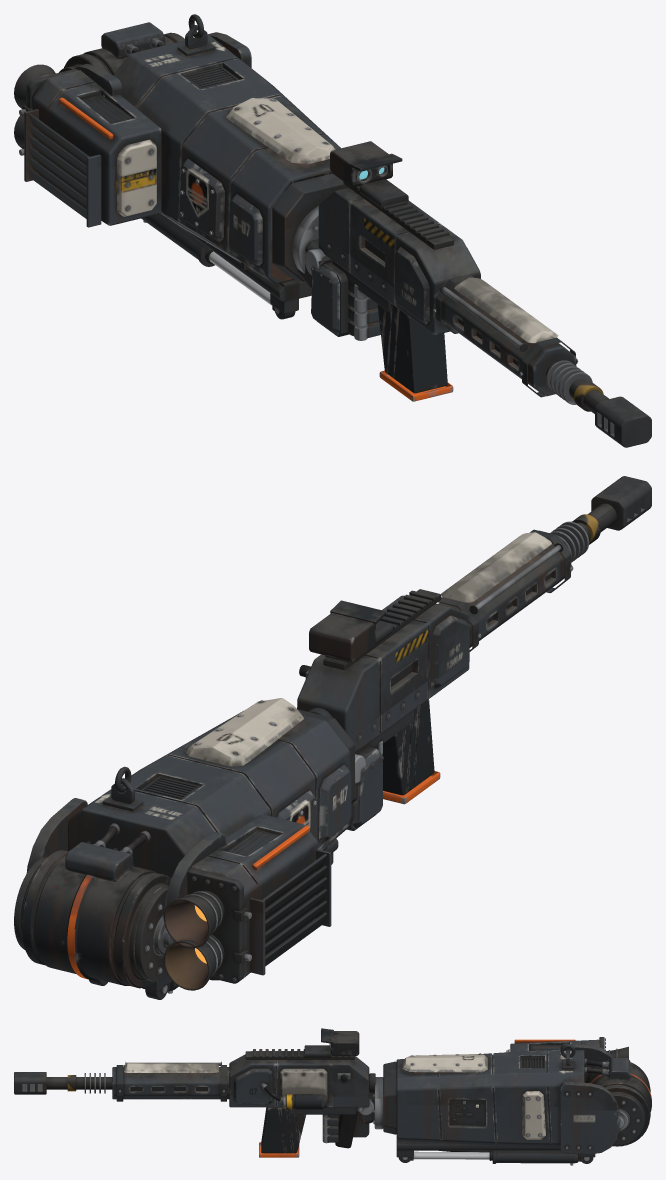
The model's file is sample.glb.
3 views of the same model, one above another, from view 1: azimuth 30°, elevation 25°; view 2: azimuth 150°, elevation 25°; view 3: azimuth 270°, elevation 25° (orthographic). The views are drawn at different scales.
Parts seen in each view (by area): view 1: forearm_R_geo, weapon_R_geo, booster_R_geo, hand_R_geo, nozzle_R_0_geo; view 2: forearm_R_geo, weapon_R_geo, booster_R_geo, nozzle_R_0_geo, nozzle_R_1_geo, hand_R_geo; view 3: forearm_R_geo, weapon_R_geo, hand_R_geo, booster_R_geo.
Boxes of the visible parts, x1=… form: forearm_R_geo: x1=59, y1=14, x2=348, y2=319; weapon_R_geo: x1=318, y1=141, x2=651, y2=447; booster_R_geo: x1=24, y1=68, x2=161, y2=227; hand_R_geo: x1=298, y1=239, x2=380, y2=340; nozzle_R_0_geo: x1=14, y1=64, x2=55, y2=116; forearm_R_geo: x1=14, y1=698, x2=355, y2=999; weapon_R_geo: x1=297, y1=476, x2=651, y2=804; booster_R_geo: x1=187, y1=814, x2=331, y2=983; nozzle_R_0_geo: x1=164, y1=890, x2=251, y2=948; nozzle_R_1_geo: x1=164, y1=934, x2=251, y2=990; hand_R_geo: x1=347, y1=740, x2=383, y2=830; forearm_R_geo: x1=373, y1=1043, x2=651, y2=1165; weapon_R_geo: x1=14, y1=1028, x2=375, y2=1157; hand_R_geo: x1=322, y1=1093, x2=374, y2=1143; booster_R_geo: x1=506, y1=1037, x2=605, y2=1082.
Bounding box in the file's own units: 1.3 × 1.24 × 5.84.
Materials: 2 (2 with a texture image).
